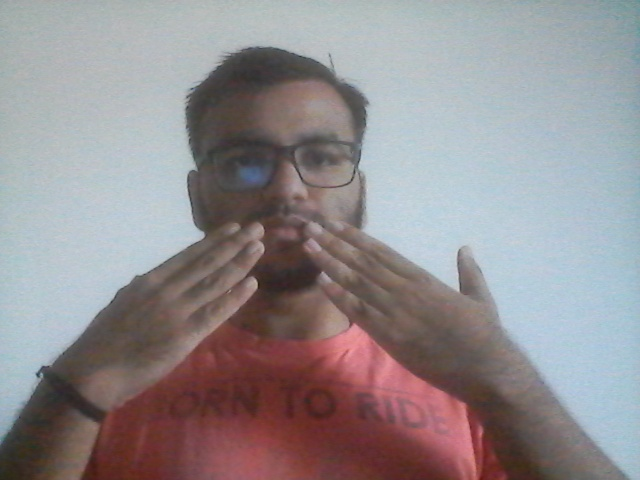Yes: (51, 206, 533, 401)
